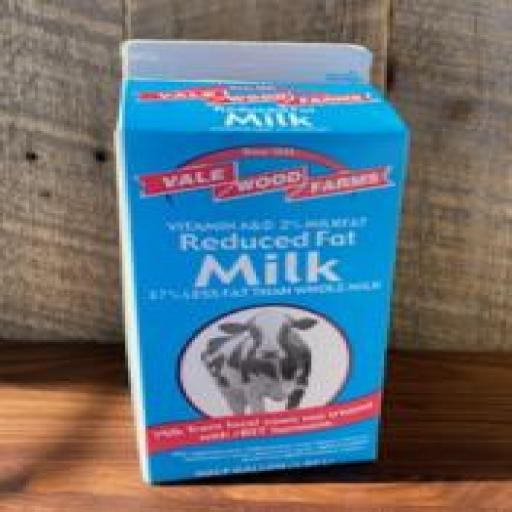drink carton: (110, 41, 416, 488)
